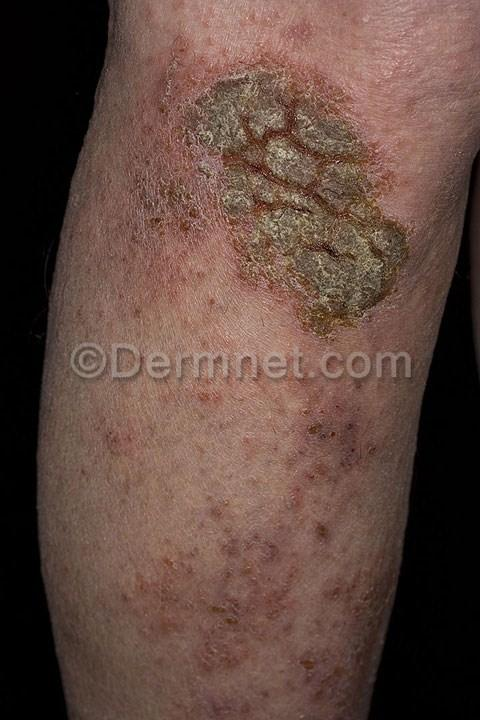Eczema: (142, 43, 436, 335), (122, 530, 299, 687), (266, 380, 403, 495), (82, 400, 201, 508), (326, 560, 386, 703)
